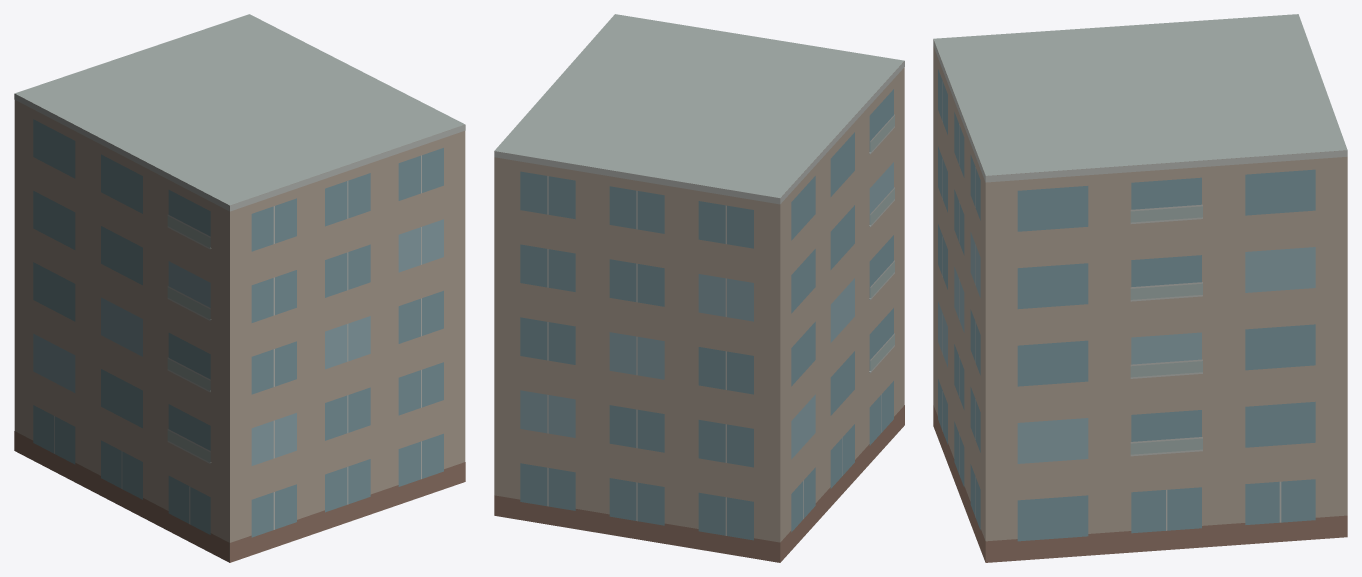
File: survey-upis-32530293.glb
The picture shows the model from 3 angles, left to right: view 1: azimuth 30°, elevation 25°; view 2: azimuth 150°, elevation 25°; view 3: azimuth 270°, elevation 25°; orthographic projection. The views are drawn at different scales.
Visible parts, largest first — view 1: survey-upis-32530293.tmp; view 2: survey-upis-32530293.tmp; view 3: survey-upis-32530293.tmp.
Boxes of the visible parts, bbox=[...] form: survey-upis-32530293.tmp: bbox=[14, 14, 465, 562]; survey-upis-32530293.tmp: bbox=[494, 14, 904, 562]; survey-upis-32530293.tmp: bbox=[933, 14, 1347, 562].
Bounding box in the file's own units: 12.84 × 14.3 × 13.89.
